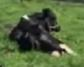cow: (8, 9, 75, 57)
